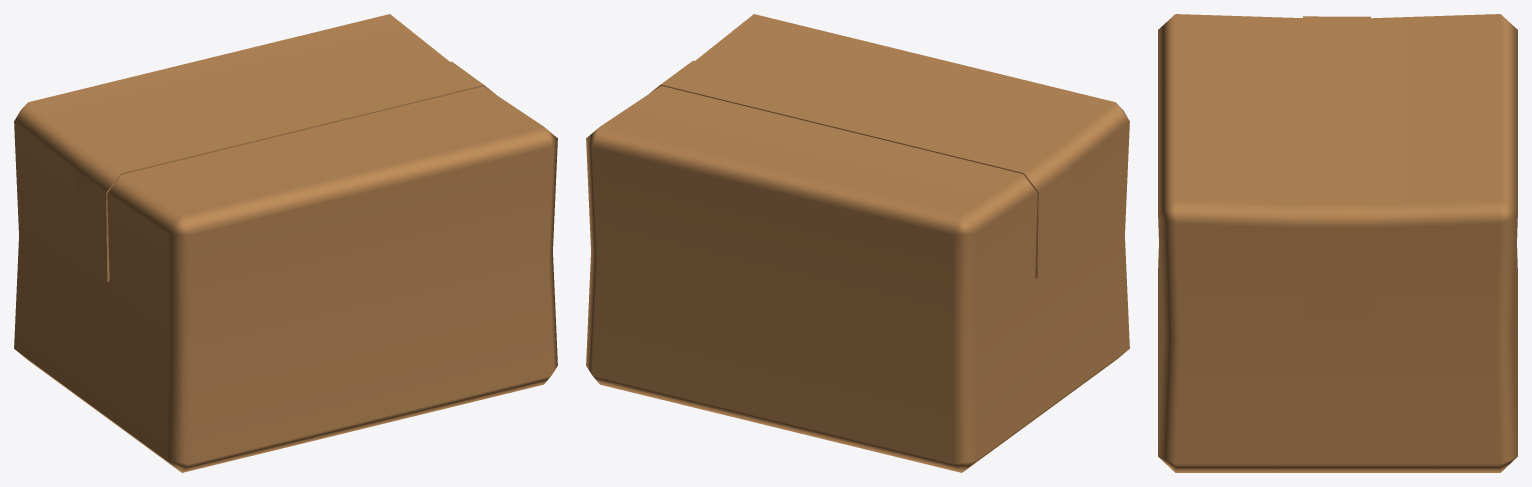
3 views of the same model, side by side, from view 1: azimuth 30°, elevation 25°; view 2: azimuth 150°, elevation 25°; view 3: azimuth 270°, elevation 25° (orthographic). The views are drawn at different scales.
Parts seen in each view (by area): view 1: Cube.001; view 2: Cube.001; view 3: Cube.001.
Part boxes in pixels (x1,y1,x2,y2): Cube.001: (14,14,557,472); Cube.001: (586,14,1129,472); Cube.001: (1158,14,1517,472).
Size of the model in its own units: 63.38 by 39.8 by 47.63.
